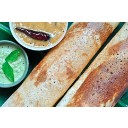dosa: (29, 52, 127, 107), (69, 21, 128, 105)
